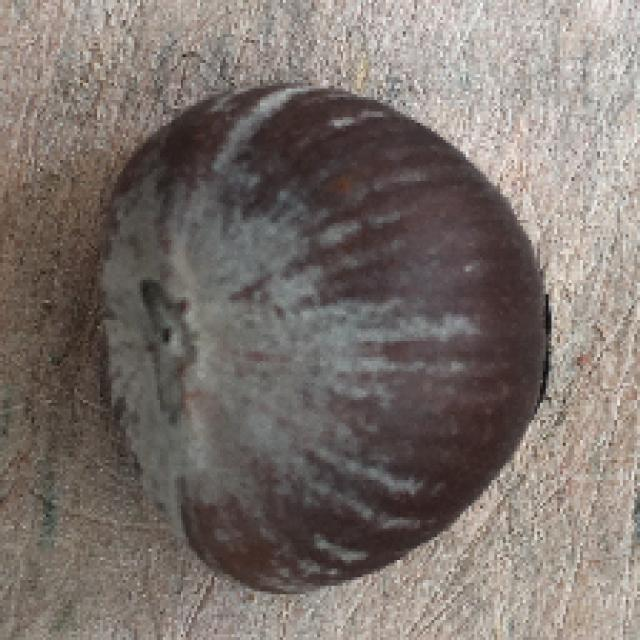damagedHazelnut: (74, 69, 560, 602)
